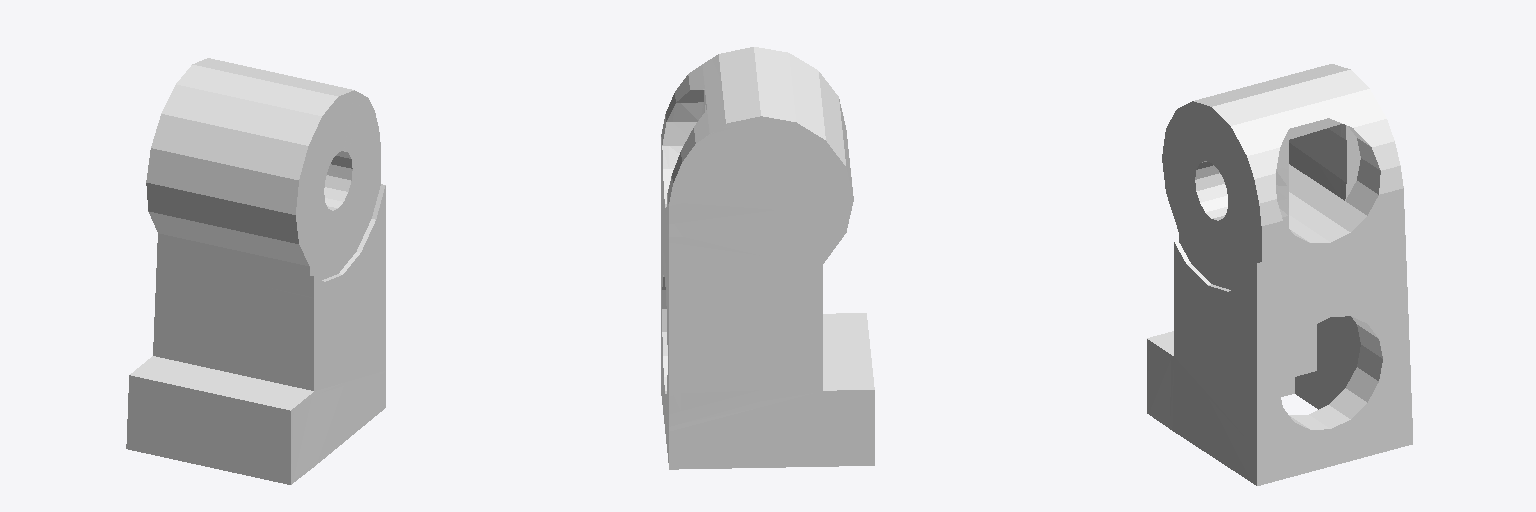
Rendered from person2PiernaD.obj.
3 renders of one model, left to right at view 1: azimuth 30°, elevation 25°; view 2: azimuth 150°, elevation 25°; view 3: azimuth 270°, elevation 25°, orthographic.
Visible parts, largest first — view 1: person1:legocharacter2lleg16 group1; view 2: person1:legocharacter2lleg16 group1; view 3: person1:legocharacter2lleg16 group1.
Part boxes in pixels (bbox=[...]): person1:legocharacter2lleg16 group1: bbox=[126, 58, 385, 484]; person1:legocharacter2lleg16 group1: bbox=[661, 47, 874, 469]; person1:legocharacter2lleg16 group1: bbox=[1147, 64, 1412, 485].
Bounding box in the file's own units: 0.5899 × 0.8224 × 0.5764.